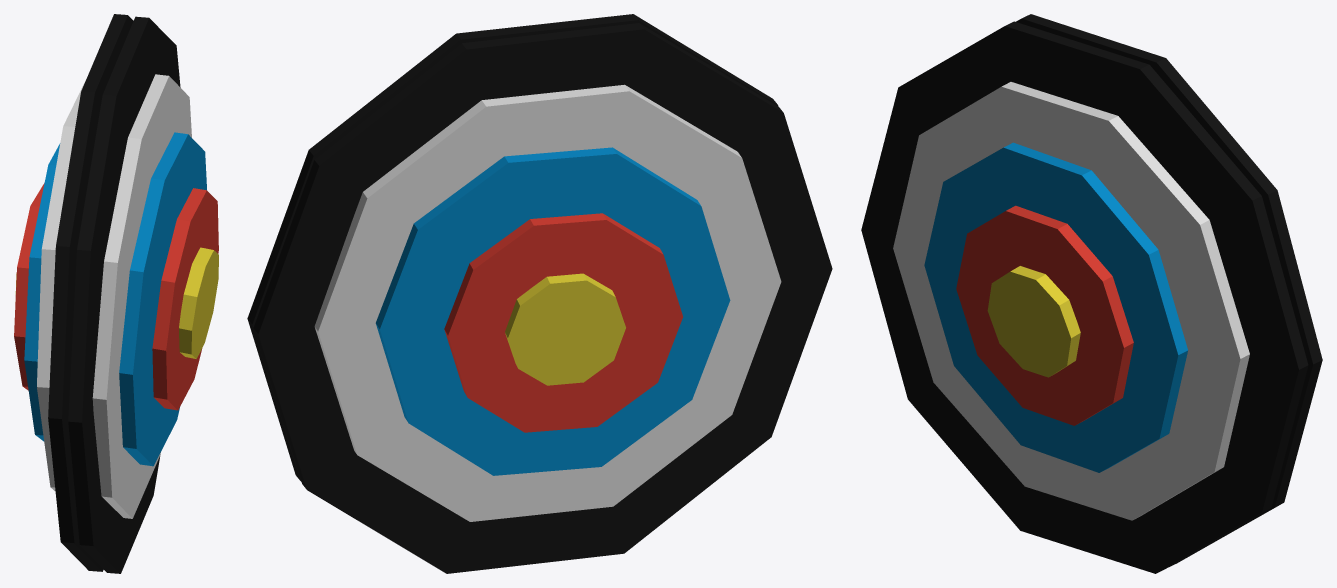
3 renders of one model, left to right at view 1: azimuth 30°, elevation 25°; view 2: azimuth 150°, elevation 25°; view 3: azimuth 270°, elevation 25°, orthographic. The views are drawn at different scales.
Parts seen in each view (by area): view 1: node_MeshObject299170432-PolyPaper23; view 2: node_MeshObject299170432-PolyPaper23; view 3: node_MeshObject299170432-PolyPaper23.
Part boxes in pixels (x1=…): node_MeshObject299170432-PolyPaper23: x1=14, y1=14, x2=218, y2=573; node_MeshObject299170432-PolyPaper23: x1=247, y1=14, x2=832, y2=573; node_MeshObject299170432-PolyPaper23: x1=861, y1=14, x2=1322, y2=573.
Bounding box in the file's own units: 0.1398 × 0.1925 × 0.1594.
